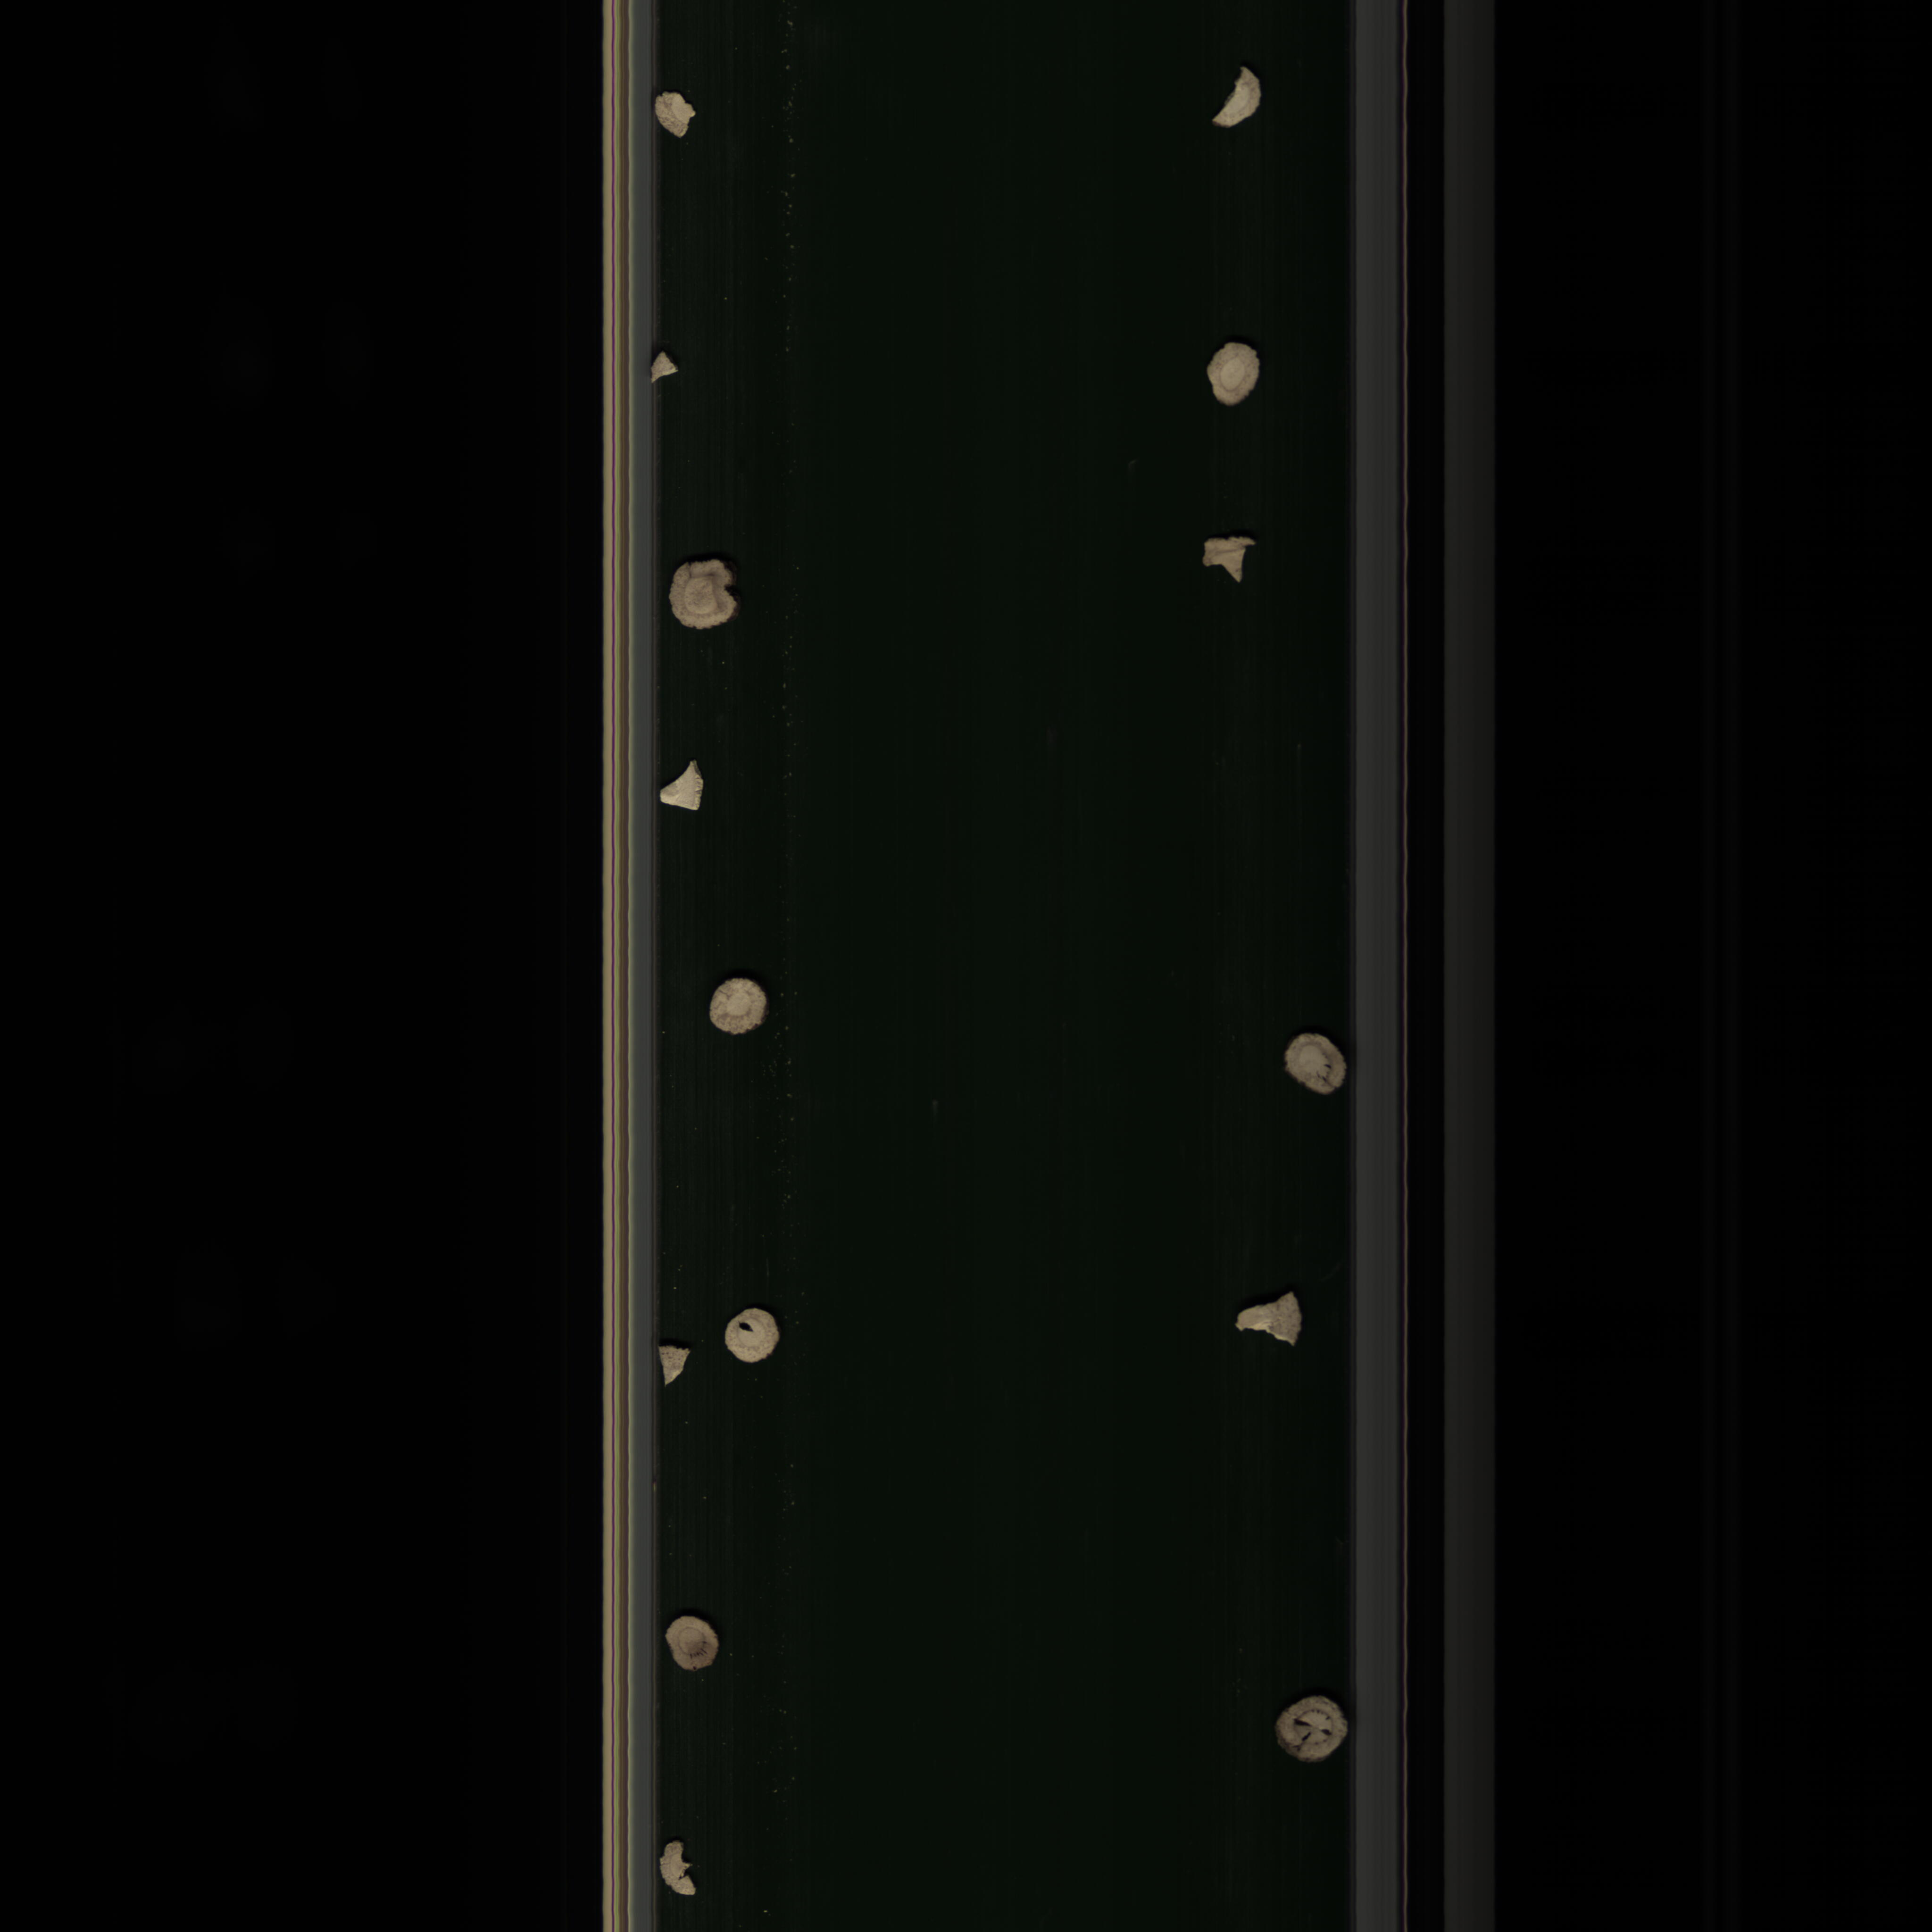debris: (1224, 1290, 1307, 1350), (1201, 60, 1265, 136), (1189, 524, 1254, 587), (656, 757, 720, 823), (656, 1842, 704, 1905), (653, 88, 704, 142), (656, 1334, 695, 1396), (648, 350, 686, 389)
hole: (1270, 1691, 1352, 1769), (1274, 1024, 1350, 1099), (722, 1302, 791, 1371)
moldy: (660, 1601, 727, 1681)
